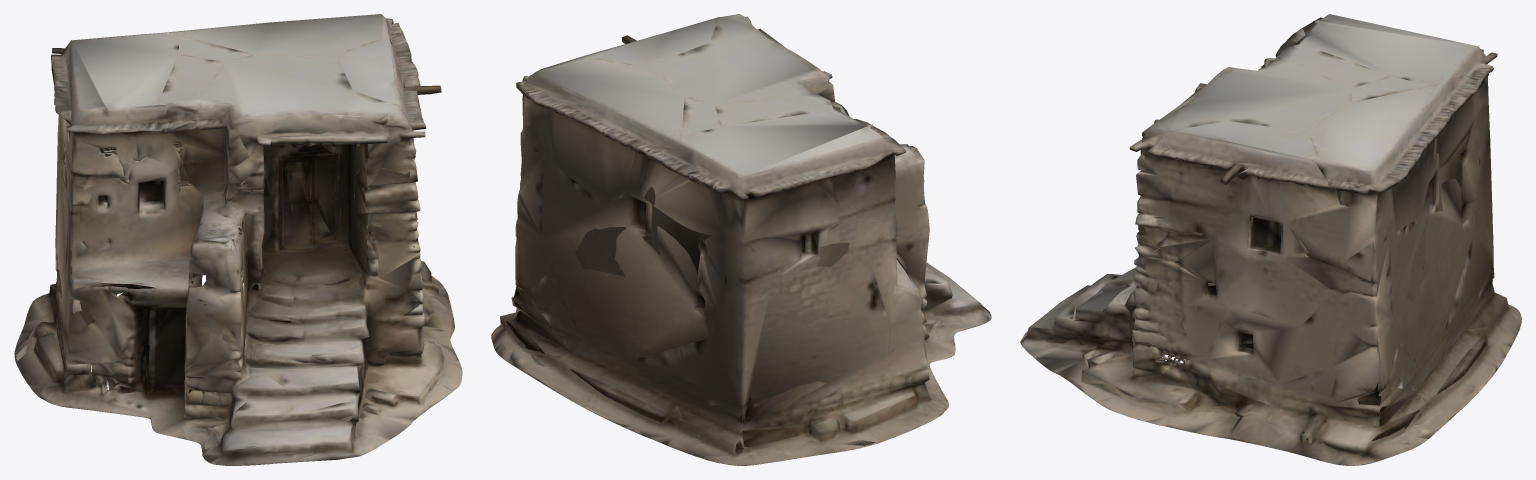
File: house_16.glb
The picture shows the model from 3 angles, left to right: view 1: azimuth 30°, elevation 25°; view 2: azimuth 150°, elevation 25°; view 3: azimuth 270°, elevation 25°; orthographic projection.
Visible parts, largest first — view 1: node_0; view 2: node_0; view 3: node_0.
Part boxes in pixels (x1,y1,x2,y2): node_0: [14, 14, 462, 465]; node_0: [491, 14, 991, 465]; node_0: [1020, 14, 1521, 465].
Size of the model in its own units: 0.9151 by 0.5743 by 0.9453.
1 material, 1 textured.
